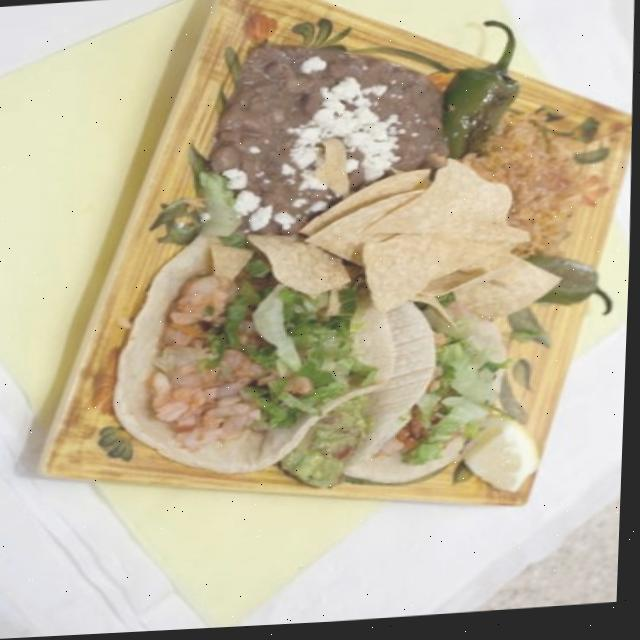面包点心: (52, 0, 640, 574)
